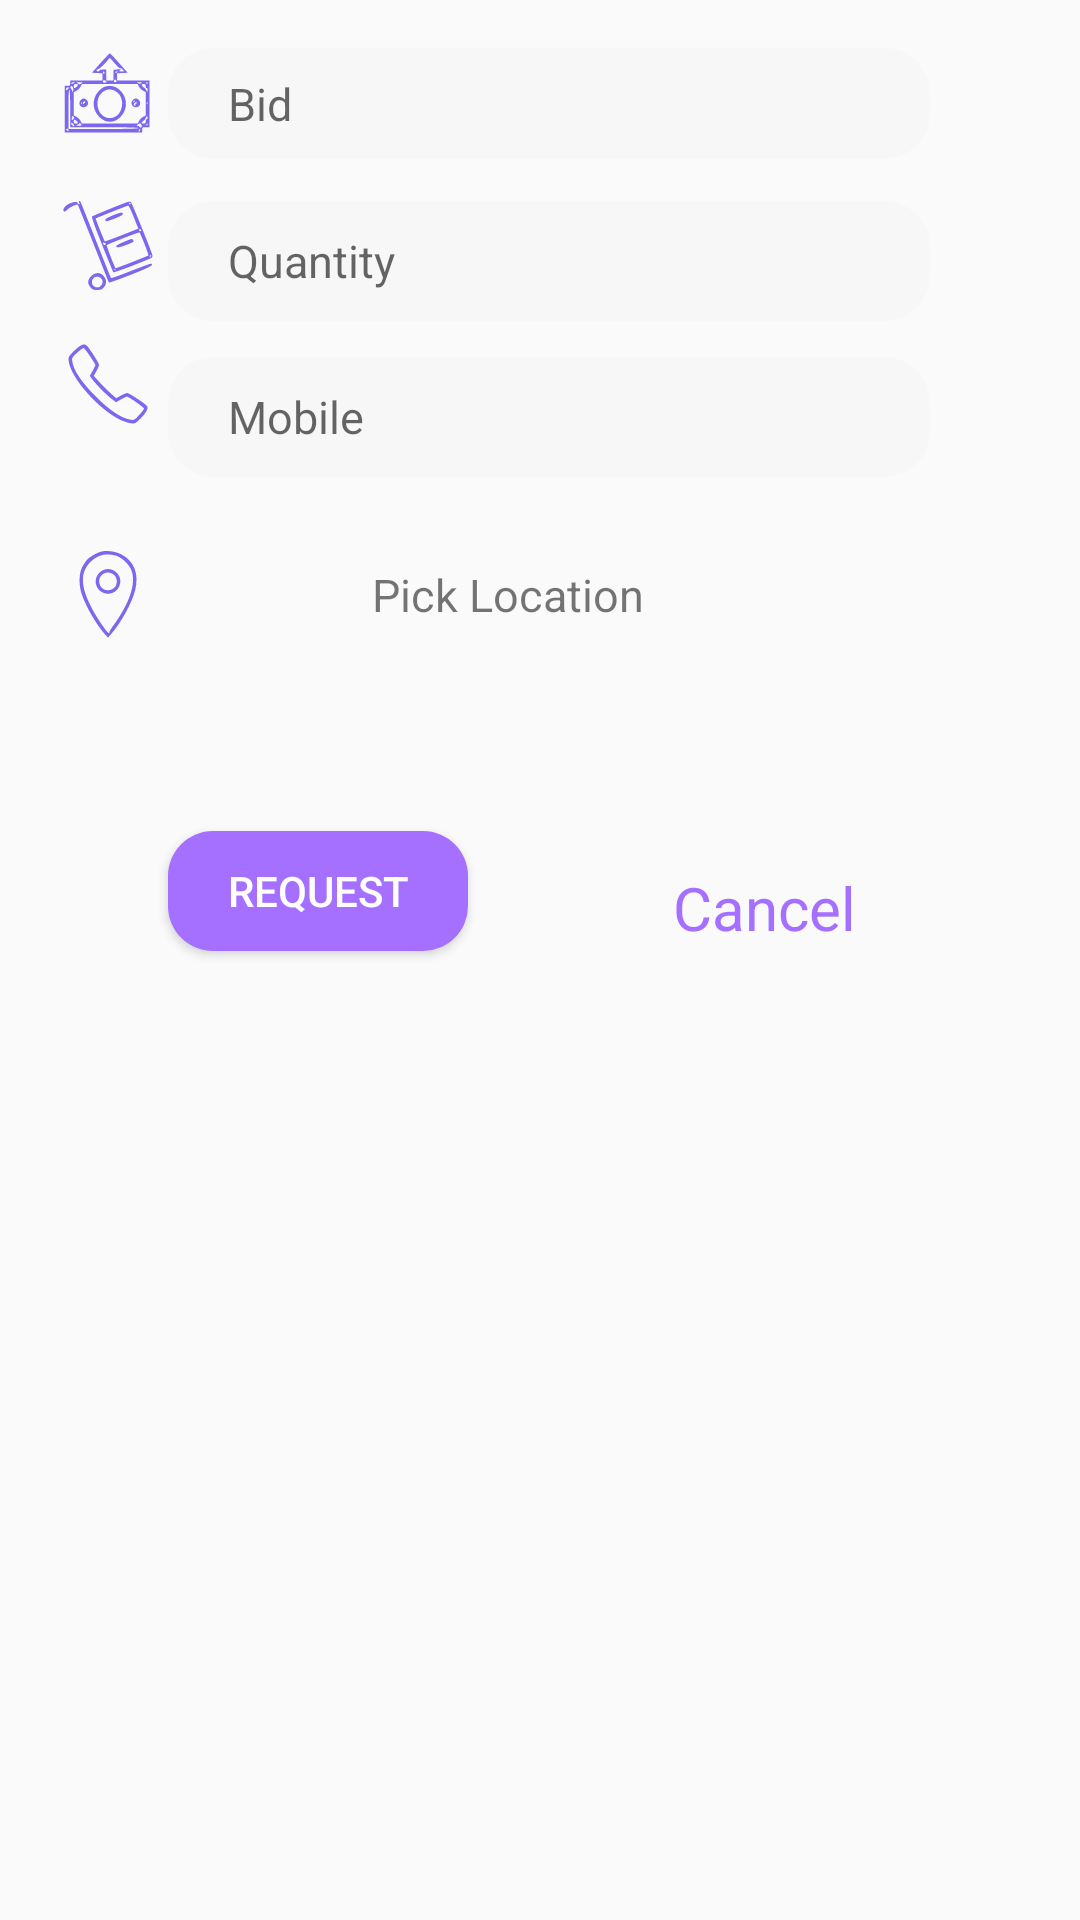

Screen size 1080*1920. Icon name, then its center in pixels as [x,y]:
location: [108,594]
phone: [108,384]
